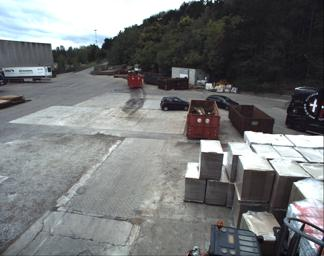rockwool_batts: (286, 201, 323, 252)
